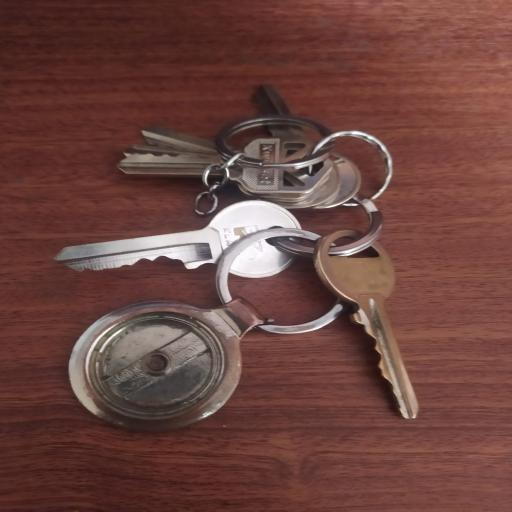Llaves: (48, 78, 430, 431)
